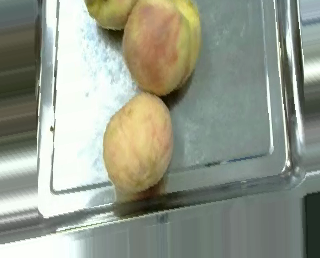Peach: (122, 1, 201, 98), (102, 91, 174, 196)
